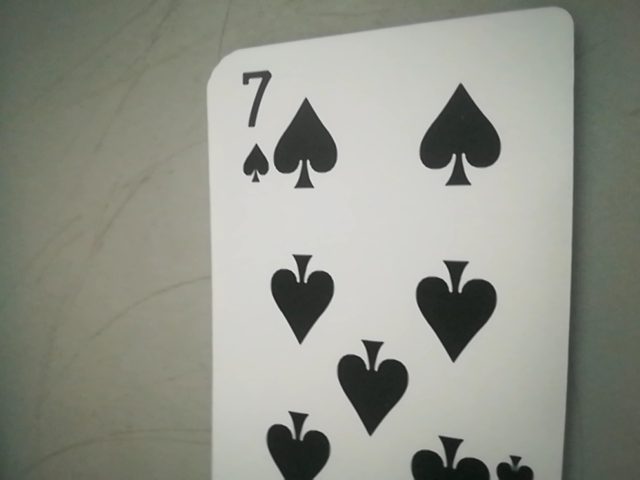ht 7: (222, 63, 285, 195)
